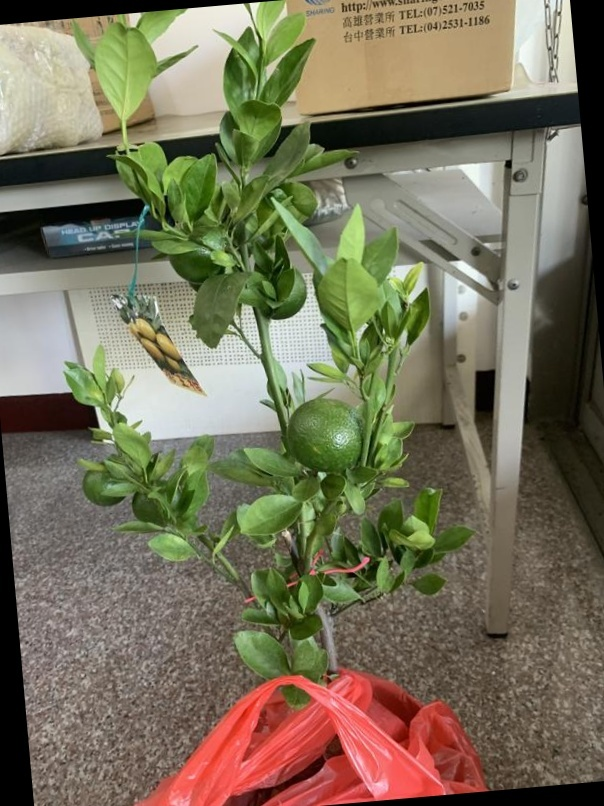Tangerine: (286, 394, 364, 474)
